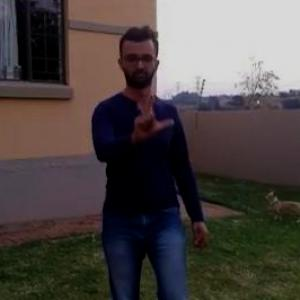land_hand: (124, 79, 177, 142)
